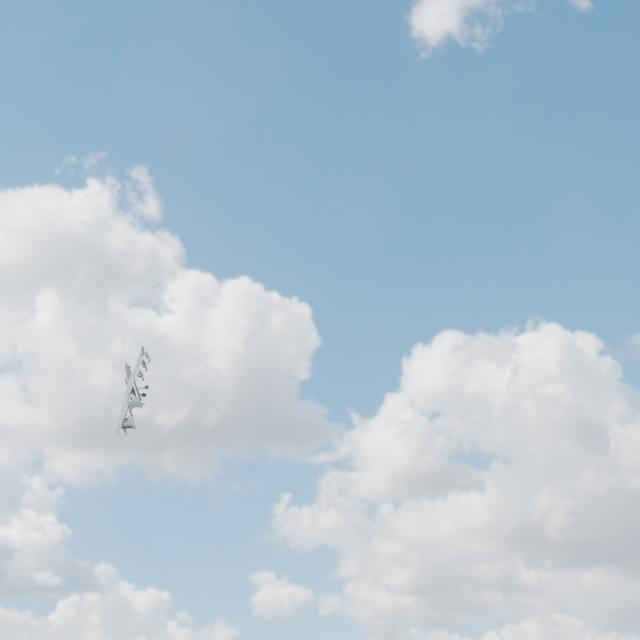Airaplan: (115, 346, 151, 435)
